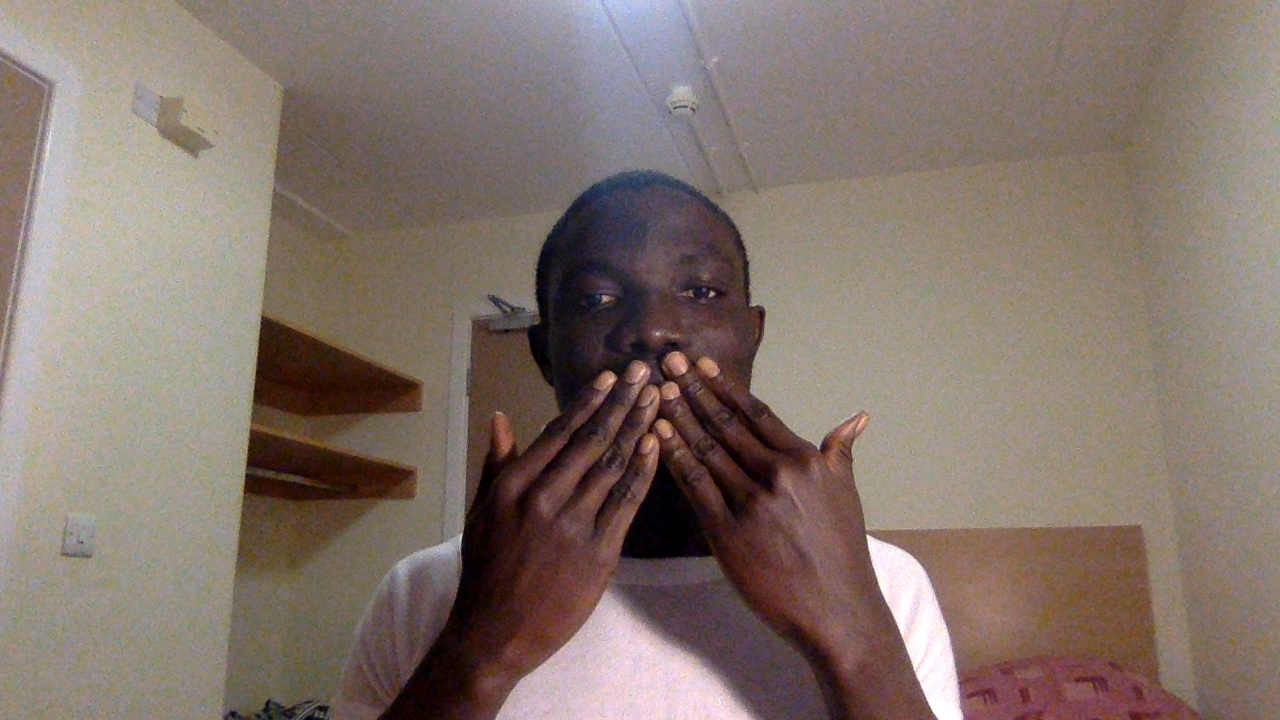Thank You: (441, 342, 938, 696)
